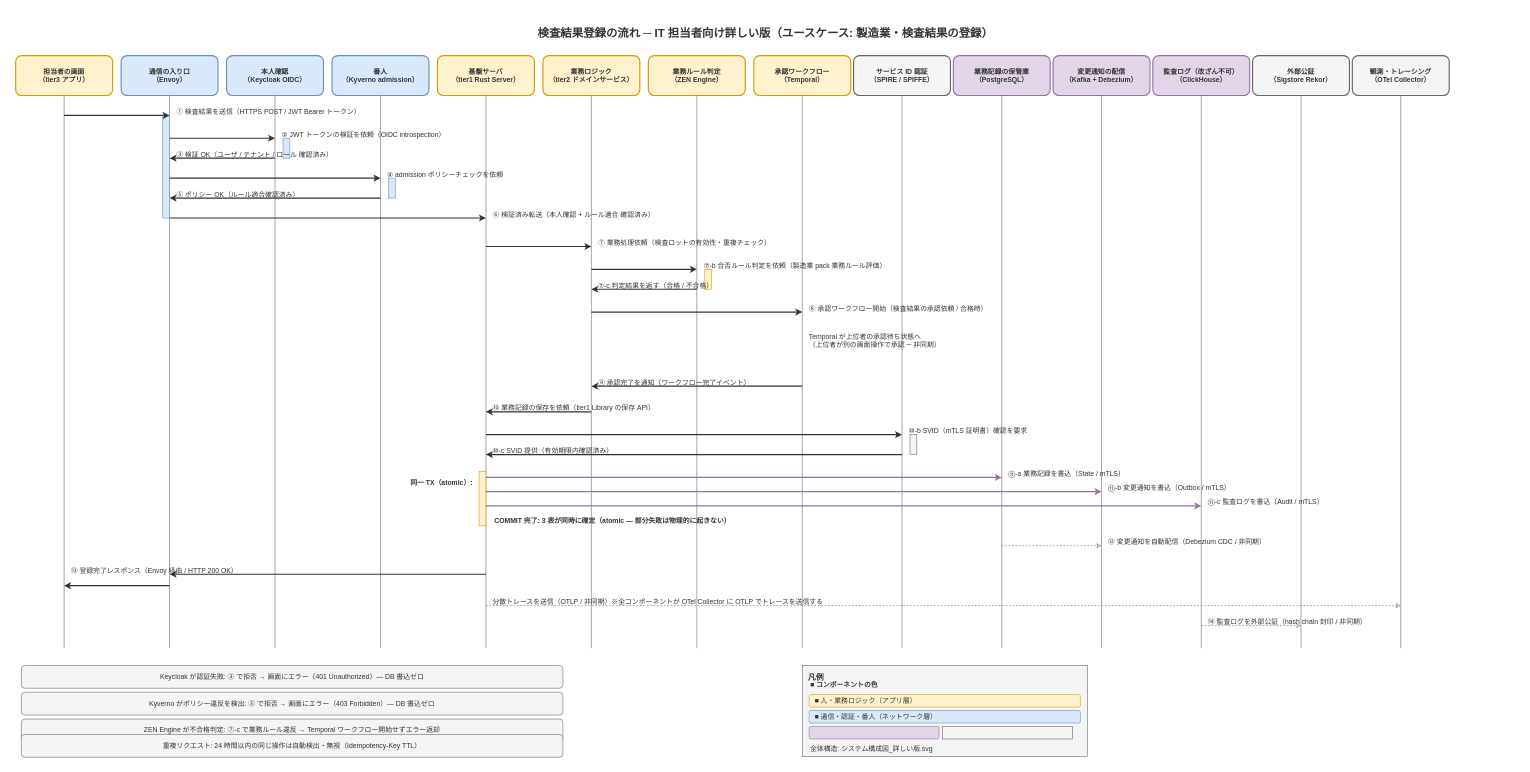
Some shapes in this 1530 by 772 pixel diagram are drawn without their labels. Here are the shapes that lost their labels. From the top down, the centre of each, then its label:
the point at 874,732: ■ データ保管（データ層）
the point at 1007,732: ■ 基盤・外部（インフラ層）
